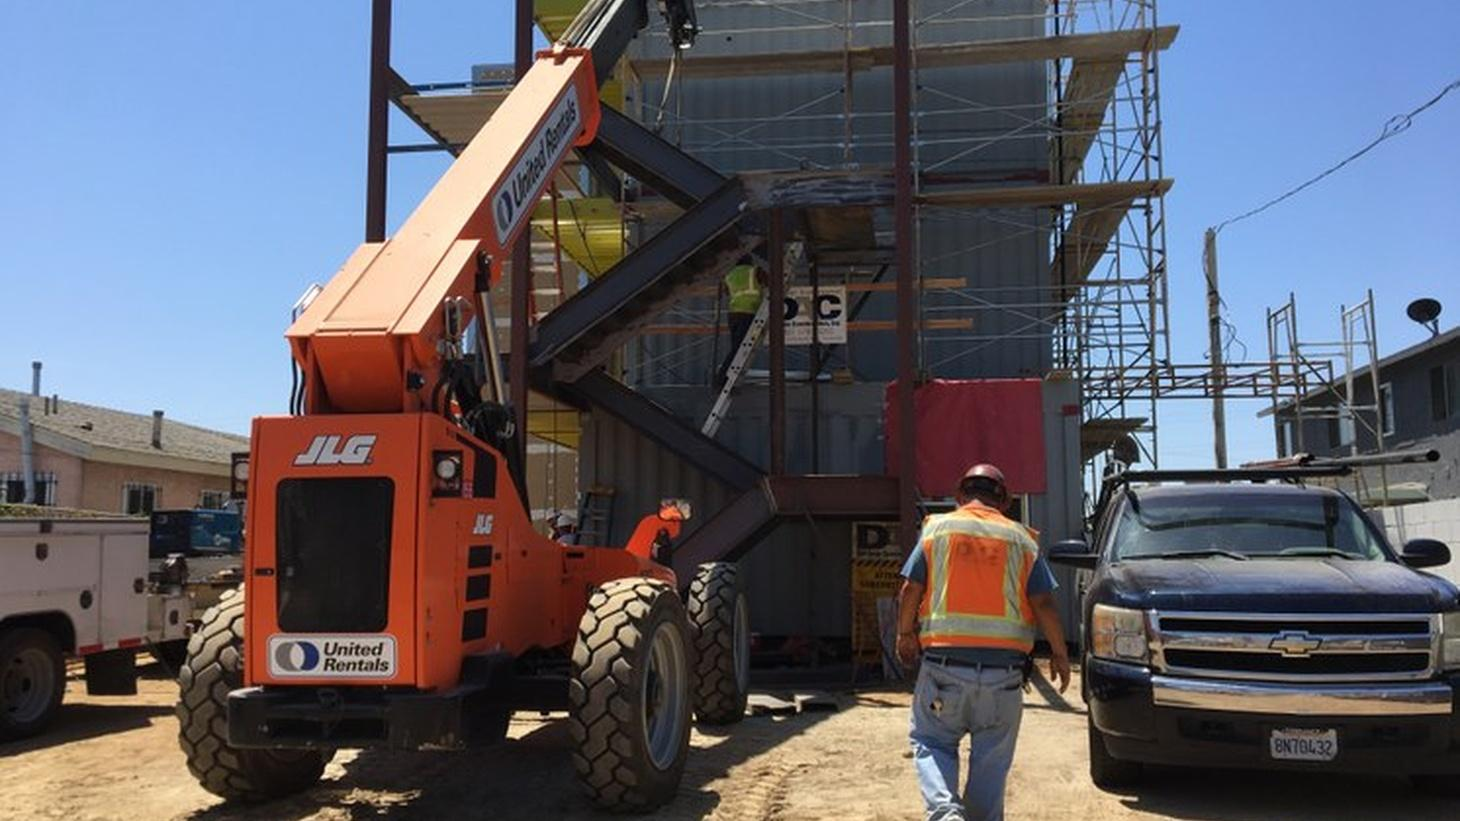helmet: (962, 466, 1006, 504), (559, 516, 574, 530), (547, 511, 555, 522)
